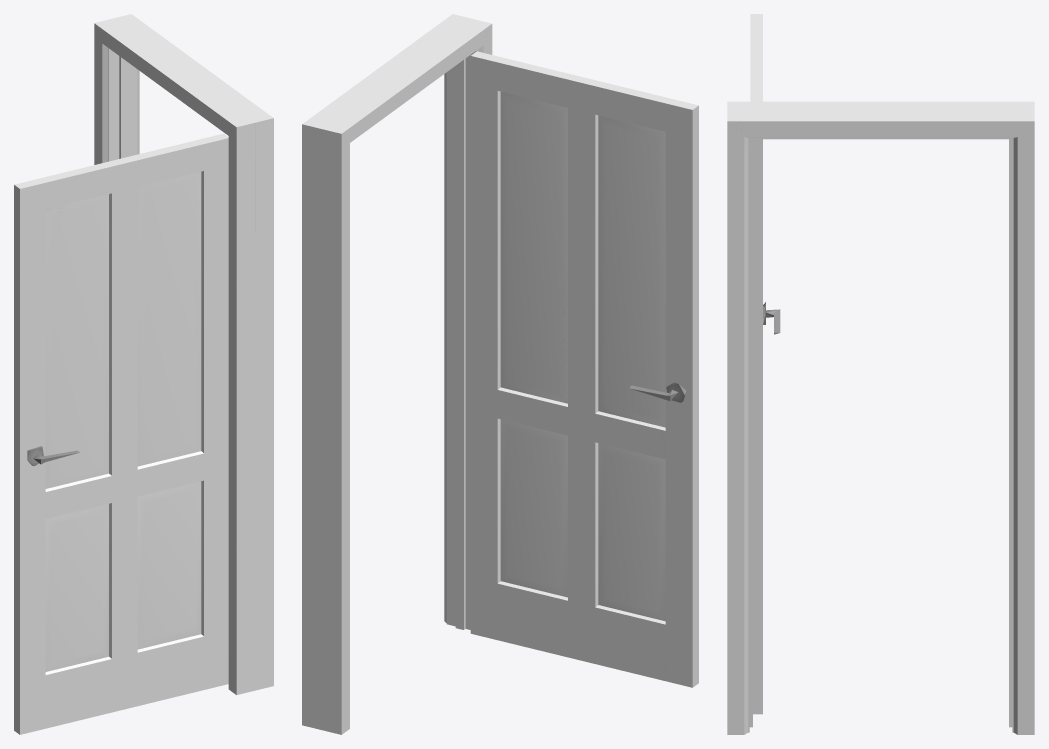
The model's file is Door0016open.obj.
3 views of the same model, side by side, from view 1: azimuth 30°, elevation 25°; view 2: azimuth 150°, elevation 25°; view 3: azimuth 270°, elevation 25° (orthographic). The views are drawn at different scales.
Bounding box in the file's own units: 0.951 × 2.12 × 0.964.
Materials: 1 (1 with a texture image).
